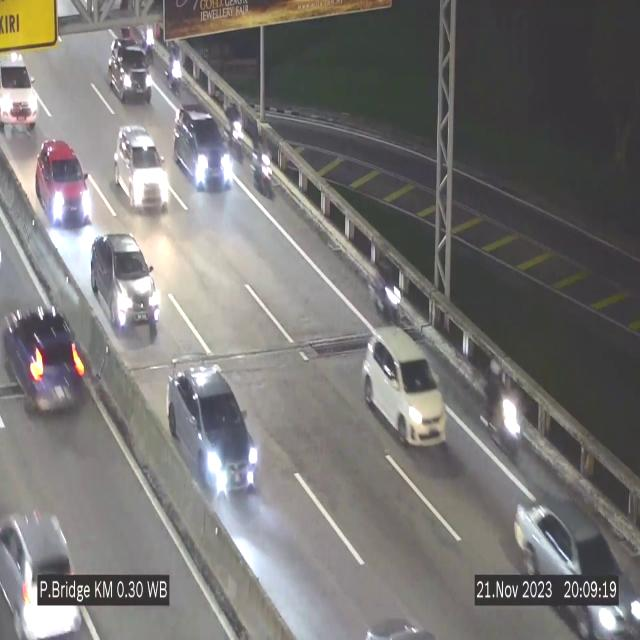Car: (507, 469, 640, 640), (0, 474, 107, 640), (167, 362, 259, 512), (0, 276, 84, 425), (362, 327, 448, 445), (90, 231, 164, 333), (172, 103, 236, 202), (34, 134, 92, 227), (118, 123, 168, 214), (108, 39, 152, 110), (0, 59, 44, 127)
Motorcycle: (483, 354, 517, 460), (372, 256, 401, 339), (228, 100, 247, 170), (258, 133, 275, 200), (168, 40, 184, 102)
